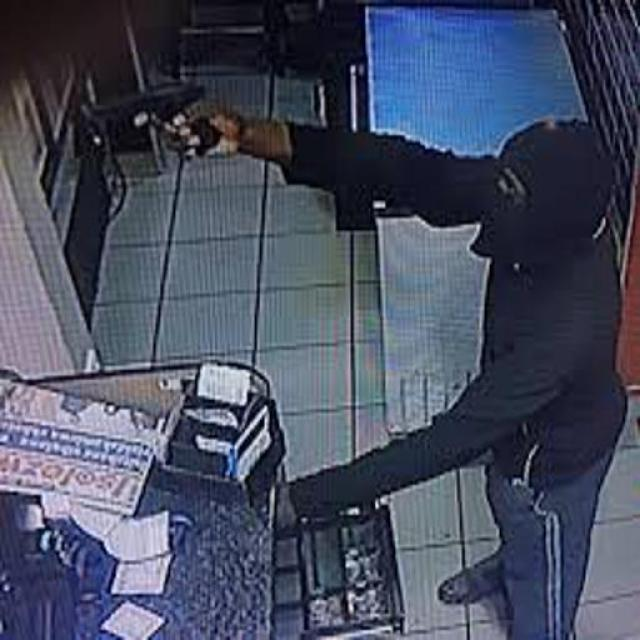pistol: (66, 75, 226, 157)
